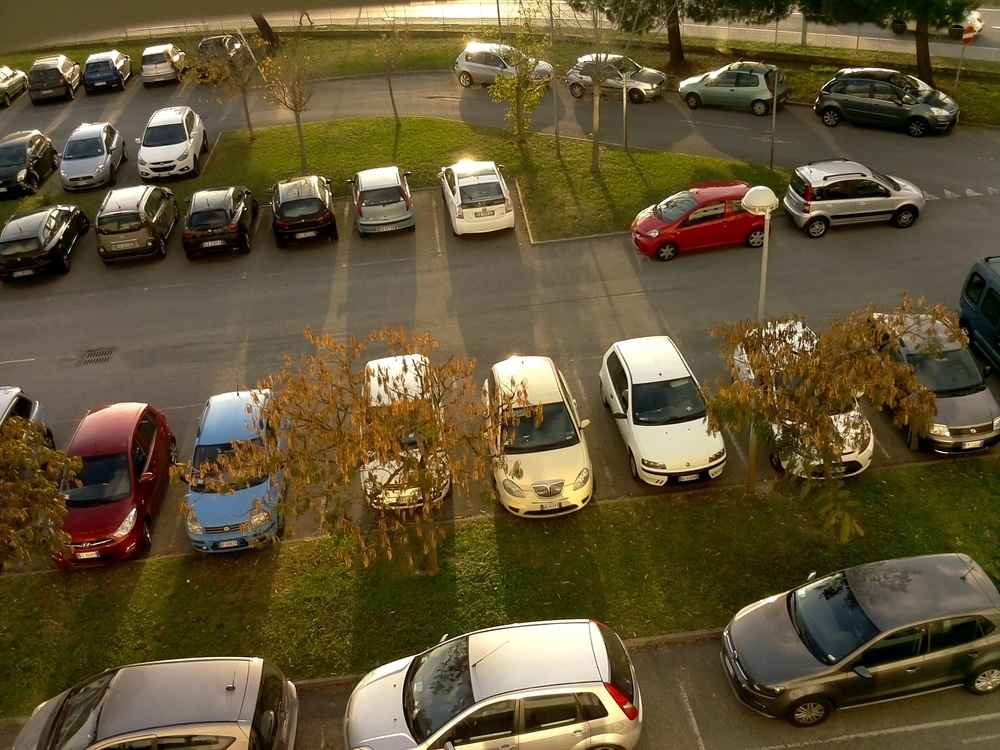Car: (722, 553, 1000, 726), (343, 619, 643, 750), (12, 657, 299, 750), (731, 321, 874, 480), (55, 402, 178, 568), (599, 336, 727, 487), (871, 308, 1000, 454), (483, 356, 594, 518), (185, 389, 283, 554), (355, 355, 448, 513), (783, 159, 924, 239), (631, 181, 764, 261), (814, 68, 960, 137), (0, 205, 90, 282), (95, 185, 179, 264), (678, 61, 788, 116), (439, 160, 515, 235), (0, 384, 58, 481), (137, 106, 210, 181), (182, 187, 258, 259), (566, 54, 667, 104), (959, 255, 1000, 373), (60, 122, 128, 191), (272, 175, 337, 247), (454, 42, 553, 88), (351, 166, 415, 236), (0, 130, 58, 195), (888, 6, 985, 40), (28, 55, 81, 105), (194, 34, 248, 81), (83, 50, 133, 94), (140, 44, 186, 87), (0, 66, 28, 107)
